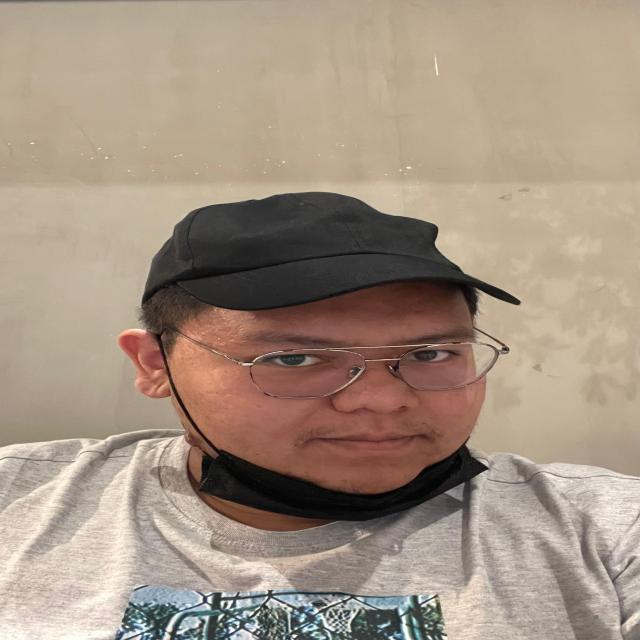3_gorra: (137, 190, 521, 313)
